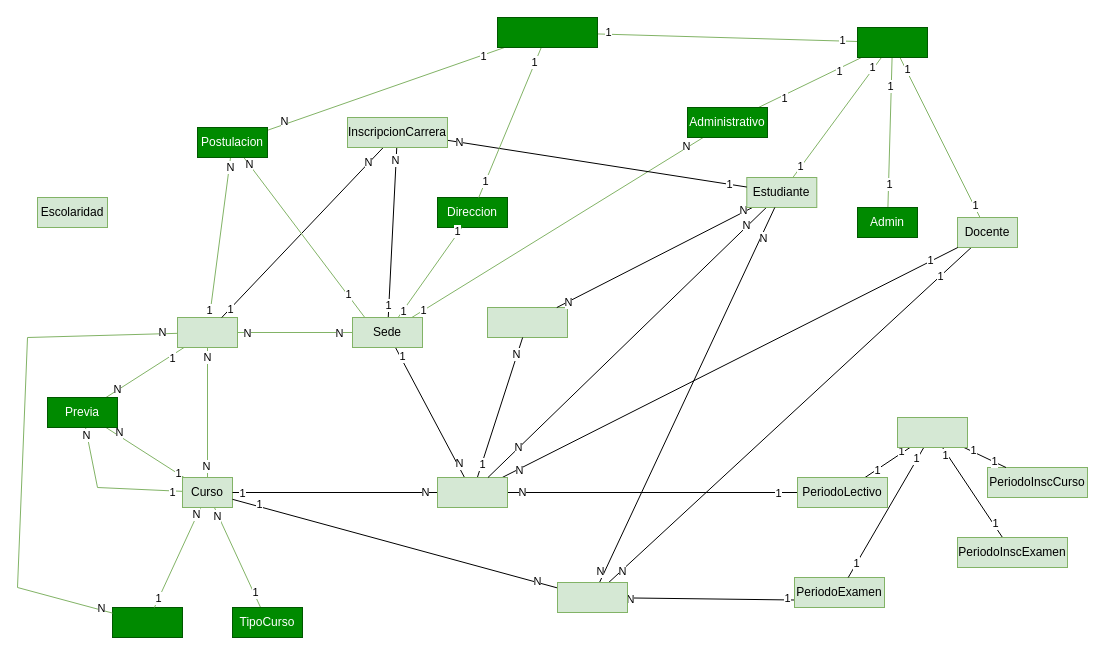
This 1105x655 diagram has some shape labels left out. Each missing label, with the centre of its shape:
"AreaEstudio" goes at [147,622].
"Carrera" goes at [207,332].
"ClaseDictada" goes at [527,322].
"EdicionCurso" goes at [472,492].
"Examen" goes at [592,597].
"Periodo" goes at [932,432].
"Persona" goes at [547,32].
"Usuario" goes at [892,42].
